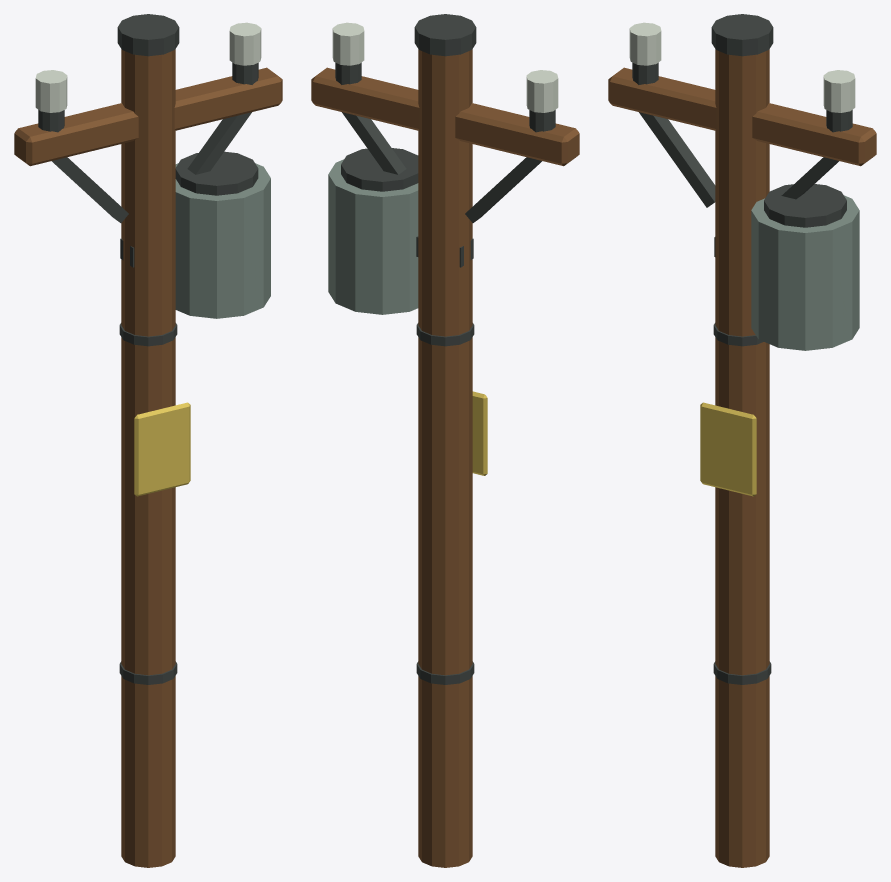
File: utility_pole.glb
3 views of the same model, side by side, from view 1: azimuth 30°, elevation 25°; view 2: azimuth 150°, elevation 25°; view 3: azimuth 330°, elevation 25° (orthographic).
Parts seen in each view (by area): view 1: PoleTrunk, Transformer, Crossarm, WarningPlate, TransformerTop, PoleTopCap, CrossarmBraceR, Insulator_0, Insulator_2, CrossarmBraceL, MetalBand_3.22, MetalBand_1.15; view 2: PoleTrunk, Transformer, Crossarm, TransformerTop, PoleTopCap, CrossarmBraceR, Insulator_0, Insulator_2, WarningPlate, CrossarmBraceL, MetalBand_3.22, MetalBand_1.15; view 3: PoleTrunk, Transformer, Crossarm, WarningPlate, TransformerTop, PoleTopCap, CrossarmBraceL, Insulator_2, Insulator_0, CrossarmBraceR, MetalBand_1.15.
Boxes of the visible parts, box(x1,y1,x2,y2) form: PoleTrunk: box(121, 49, 175, 867); Transformer: box(175, 163, 270, 318); Crossarm: box(14, 67, 282, 166); WarningPlate: box(134, 402, 190, 496); TransformerTop: box(175, 151, 258, 195); PoleTopCap: box(117, 14, 179, 56); CrossarmBraceR: box(187, 112, 251, 174); Insulator_0: box(35, 70, 67, 112); Insulator_2: box(229, 22, 261, 65); CrossarmBraceL: box(52, 157, 128, 222); MetalBand_3.22: box(119, 323, 177, 346); MetalBand_1.15: box(119, 661, 177, 684); PoleTrunk: box(418, 49, 472, 867); Transformer: box(328, 159, 418, 314); Crossarm: box(311, 67, 579, 166); TransformerTop: box(341, 148, 418, 191); PoleTopCap: box(414, 14, 476, 56); CrossarmBraceR: box(342, 112, 406, 174); Insulator_0: box(526, 70, 558, 112); Insulator_2: box(332, 22, 364, 65); WarningPlate: box(472, 391, 487, 475); CrossarmBraceL: box(465, 157, 541, 222); MetalBand_3.22: box(416, 323, 474, 346); MetalBand_1.15: box(416, 661, 474, 684); PoleTrunk: box(715, 49, 769, 867); Transformer: box(751, 195, 859, 350); Crossarm: box(608, 67, 876, 166); WarningPlate: box(700, 402, 756, 496); TransformerTop: box(764, 184, 846, 227); PoleTopCap: box(711, 14, 773, 56); CrossarmBraceL: box(639, 112, 715, 207); Insulator_2: box(823, 70, 855, 112); Insulator_0: box(629, 22, 661, 65); CrossarmBraceR: box(781, 157, 838, 199); MetalBand_1.15: box(713, 661, 771, 684).
Bounding box in the file's own units: 1.64 × 5.07 × 0.6.
